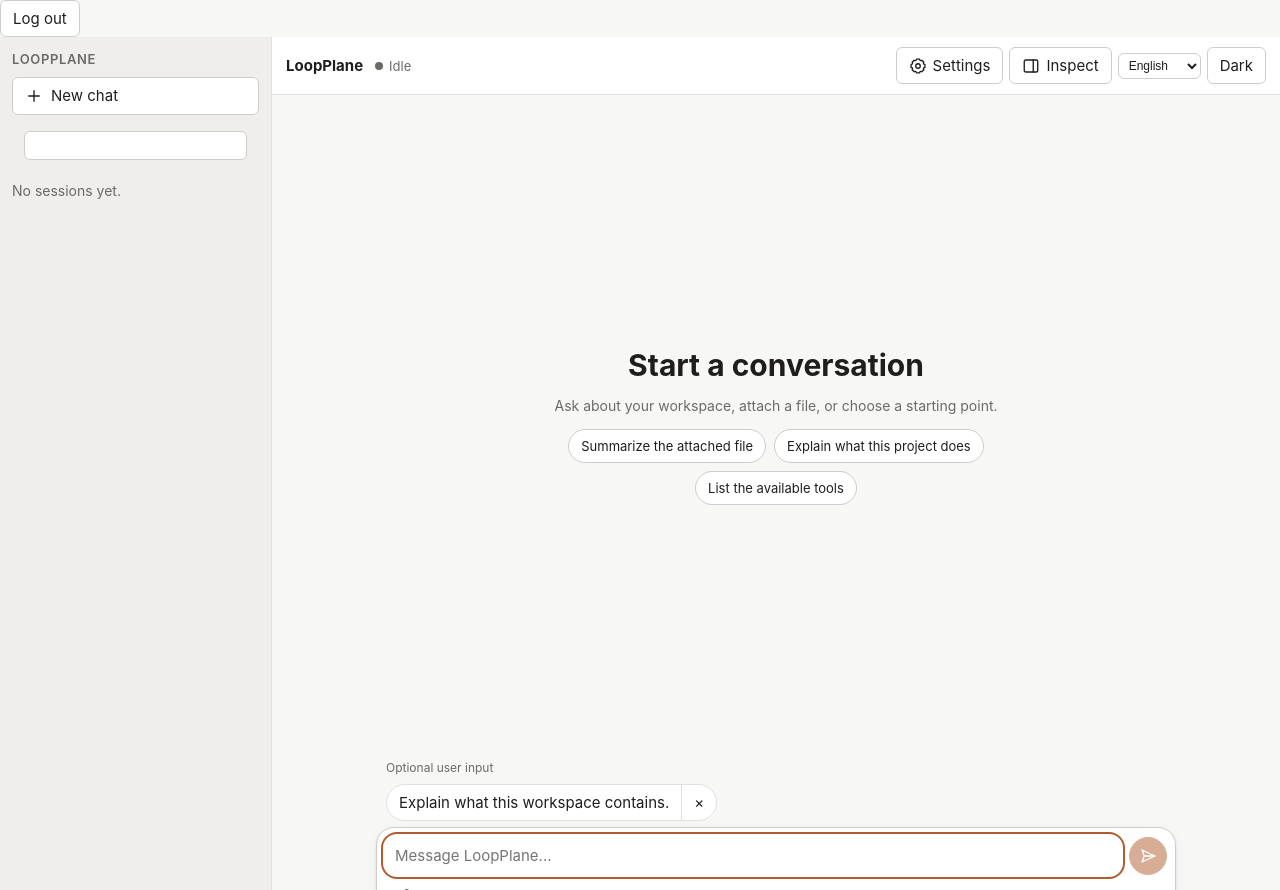
Test: AppRoot › logs out and clears the stored token
The width and height of the screenshot is (1280, 890).
Check: the text box named "prompt" is shown, box [385, 836, 1121, 875]
Click the button "Log out".
click(40, 19)  # box [0, 0, 80, 37]
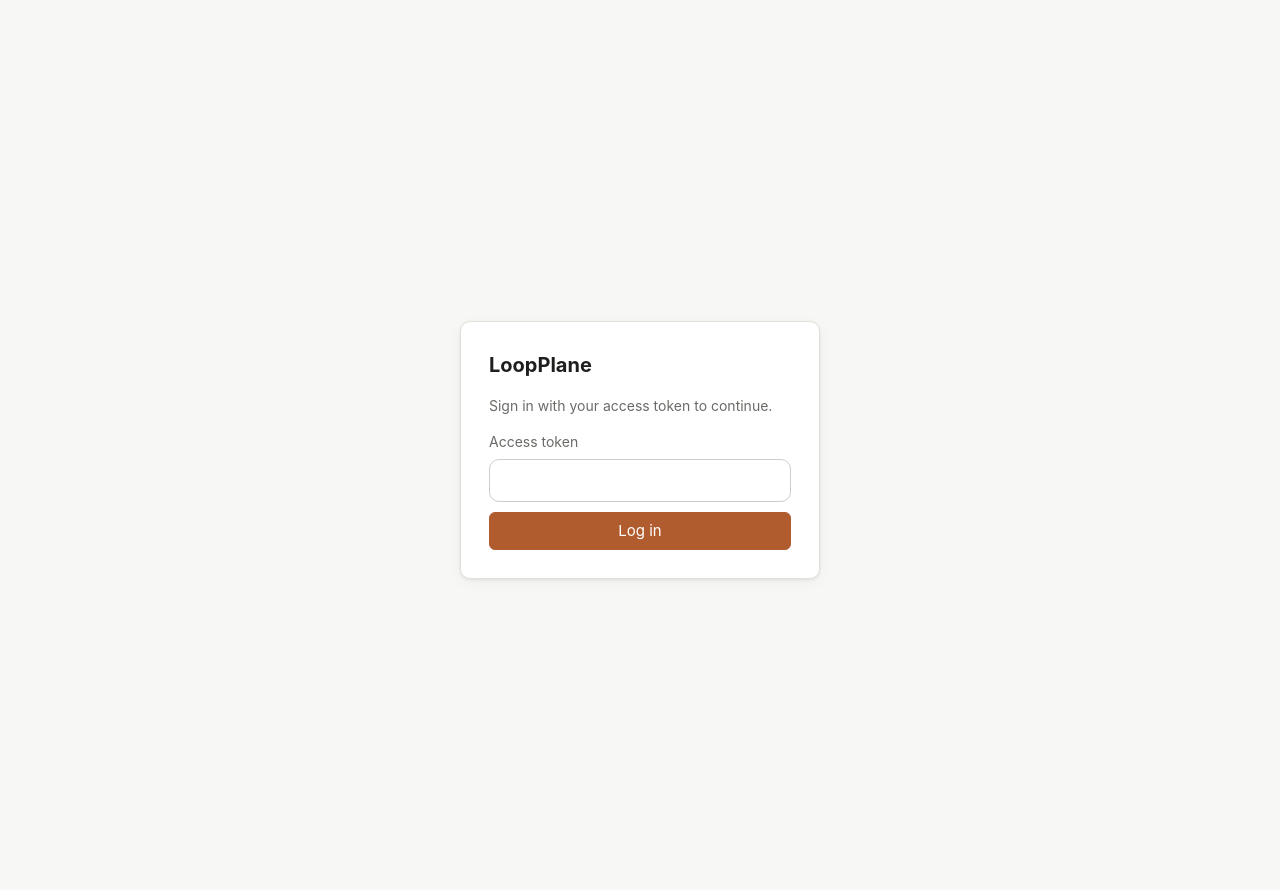
Check: the password field labelled "Access token" is shown, box [489, 459, 791, 502]
